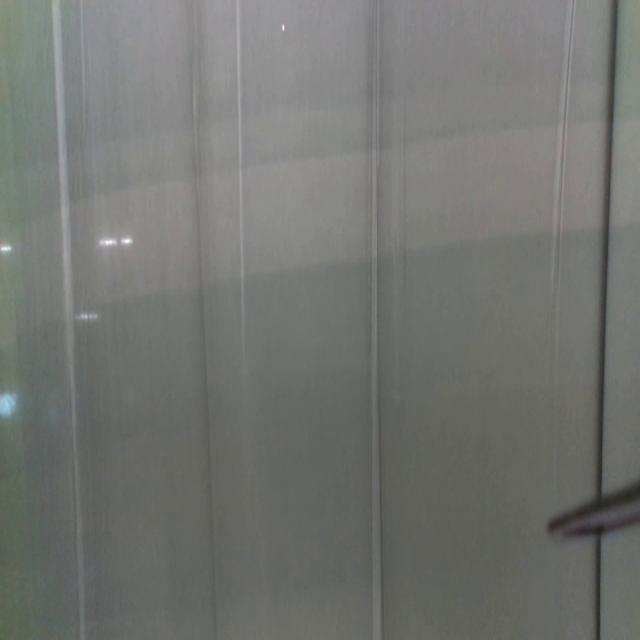color bleeding: (1, 52, 640, 348)
